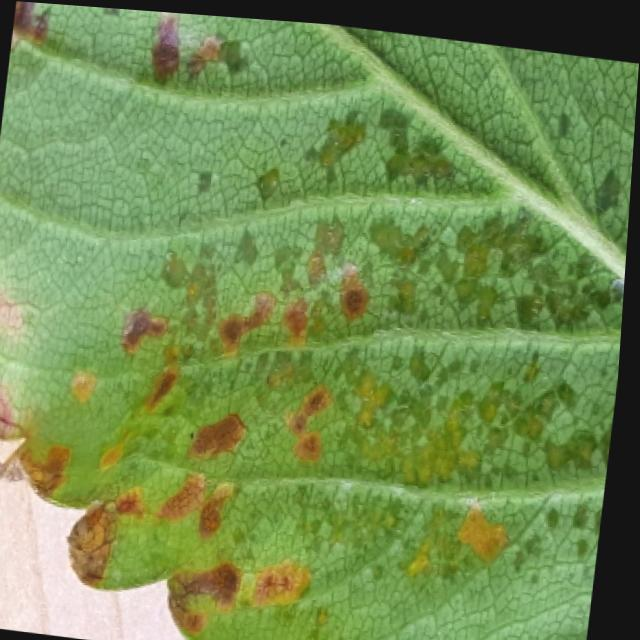Angular Leafspot: (0, 1, 634, 640)
